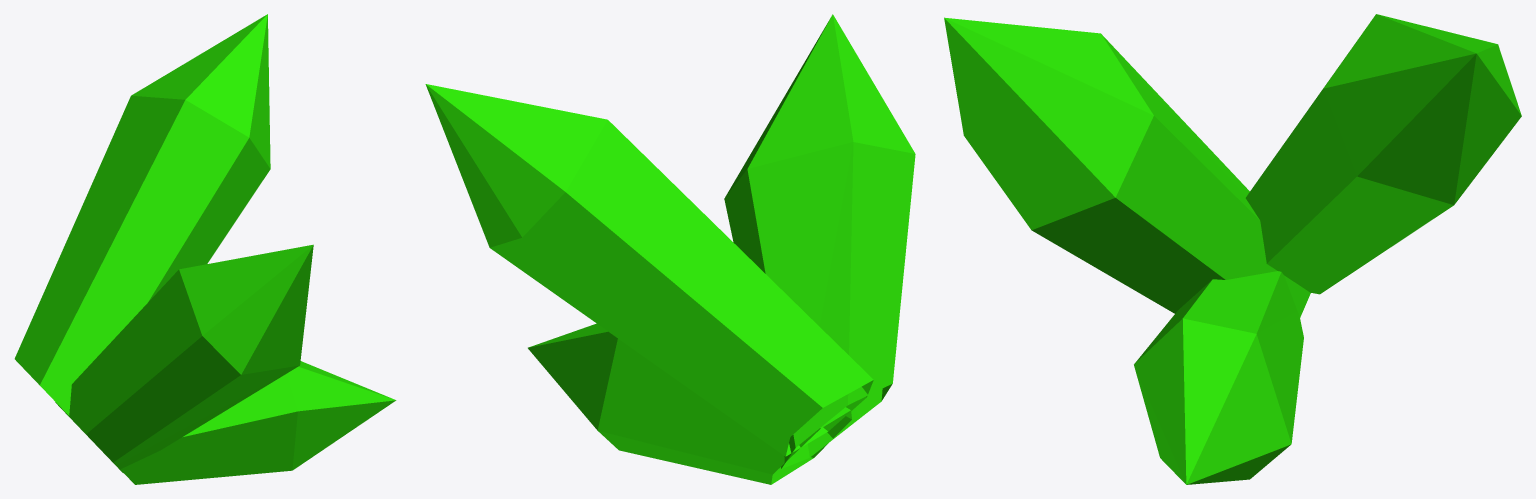
The model's file is cave_crystal_wall1.glb.
The picture shows the model from 3 angles, left to right: view 1: azimuth 30°, elevation 25°; view 2: azimuth 150°, elevation 25°; view 3: azimuth 270°, elevation 25°; orthographic projection. The views are drawn at different scales.
Visible parts, largest first — view 1: Crystal-wall01-col; view 2: Crystal-wall01-col; view 3: Crystal-wall01-col.
Boxes of the visible parts, box(x1,y1,x2,y2) form: Crystal-wall01-col: box(14, 14, 396, 484); Crystal-wall01-col: box(425, 14, 915, 484); Crystal-wall01-col: box(944, 14, 1521, 484).
Bounding box in the file's own units: 0.9957 × 1.04 × 1.13.
